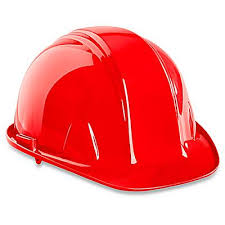Casco de seguridad: (7, 22, 218, 194)
